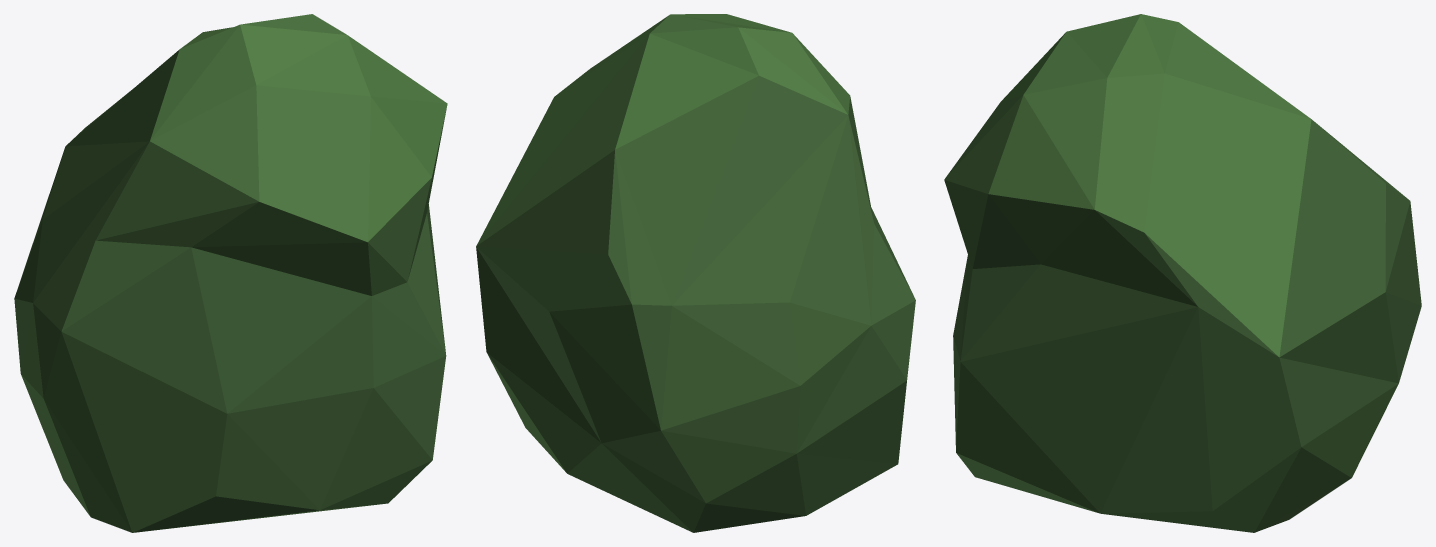
The model's file is SM_Env_Bush_04.fbx.
3 renders of one model, left to right at view 1: azimuth 30°, elevation 25°; view 2: azimuth 150°, elevation 25°; view 3: azimuth 270°, elevation 25°, orthographic. The views are drawn at different scales.
Visible parts, largest first — view 1: SM_Env_Bush_04; view 2: SM_Env_Bush_04; view 3: SM_Env_Bush_04.
Boxes of the visible parts, <box> form: SM_Env_Bush_04: <box>14,14,447,532</box>; SM_Env_Bush_04: <box>476,14,915,532</box>; SM_Env_Bush_04: <box>944,14,1421,532</box>.
Bounding box in the file's own units: 0.0117 × 0.0129 × 0.012.
1 material, 1 textured.
